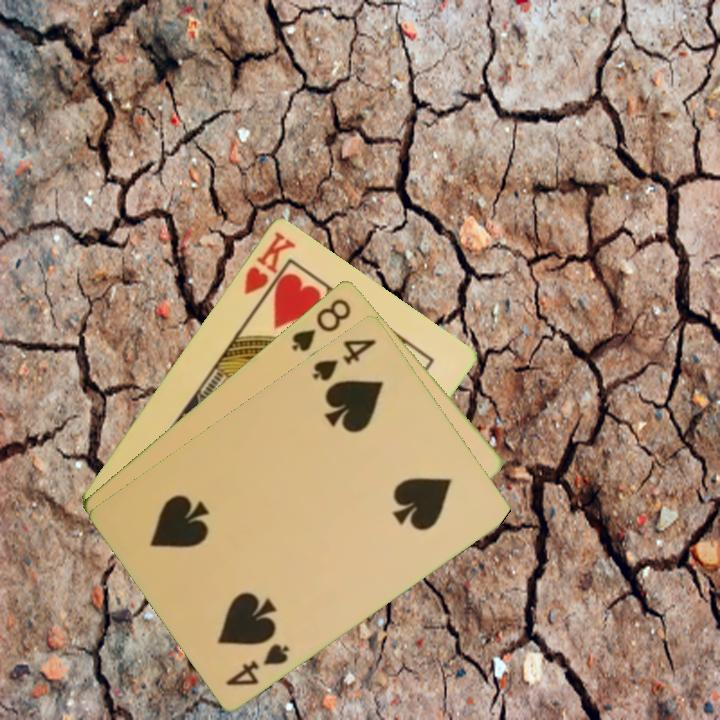4s: (308, 334, 380, 384), (222, 639, 293, 689)
8s: (287, 294, 355, 354)
Kh: (240, 227, 299, 310)
